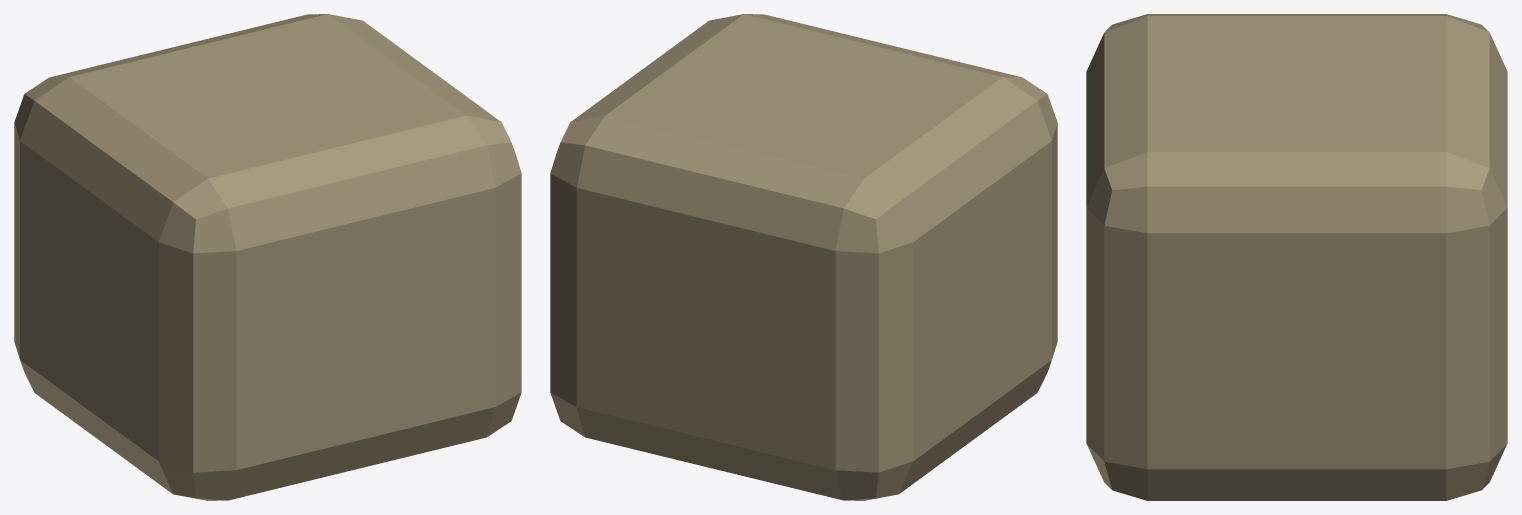
Rendered from item-stone.glb.
3 renders of one model, left to right at view 1: azimuth 30°, elevation 25°; view 2: azimuth 150°, elevation 25°; view 3: azimuth 270°, elevation 25°, orthographic. The views are drawn at different scales.
Visible parts, largest first — view 1: item-stone.001; view 2: item-stone.001; view 3: item-stone.001.
Boxes of the visible parts, box(x1,y1,x2,y2) form: item-stone.001: box(14, 14, 521, 500); item-stone.001: box(550, 14, 1057, 500); item-stone.001: box(1086, 14, 1507, 500).
Bounding box in the file's own units: 0.58 × 0.5 × 0.55.
